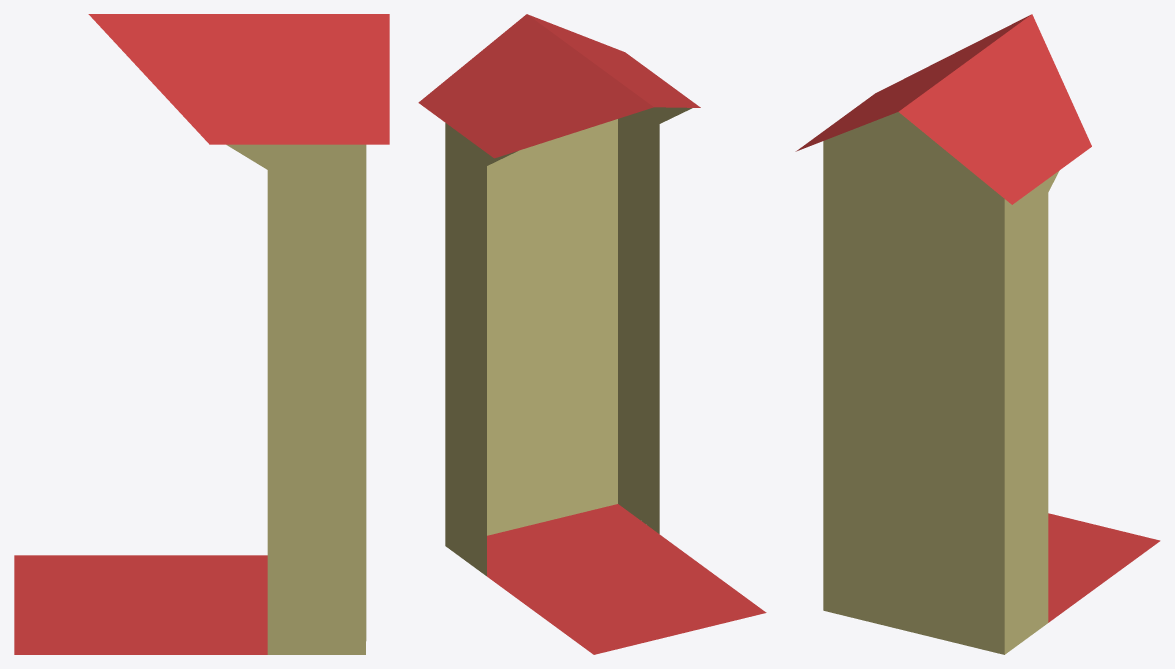
3 views of the same model, side by side, from view 1: azimuth 30°, elevation 25°; view 2: azimuth 150°, elevation 25°; view 3: azimuth 270°, elevation 25° (orthographic). The views are drawn at different scales.
Visible parts, largest first — view 1: group_5, group_3, group_6, group_4; view 2: group_5, group_6, group_3, group_4; view 3: group_5, group_3, group_6, group_4.
Part boxes in pixels (box(x1,y1,x2,y2)): group_5: box(226, 144, 366, 654); group_3: box(88, 14, 389, 144); group_6: box(14, 555, 267, 654); group_4: box(202, 124, 386, 144); group_5: box(445, 107, 692, 576); group_6: box(487, 504, 766, 654); group_3: box(418, 14, 700, 158); group_4: box(422, 53, 698, 157); group_5: box(823, 112, 1059, 654); group_3: box(795, 14, 1091, 204); group_6: box(1048, 513, 1160, 622); group_4: box(799, 91, 1091, 203).
Size of the model in its own units: 9.72 by 8.81 by 14.01.
